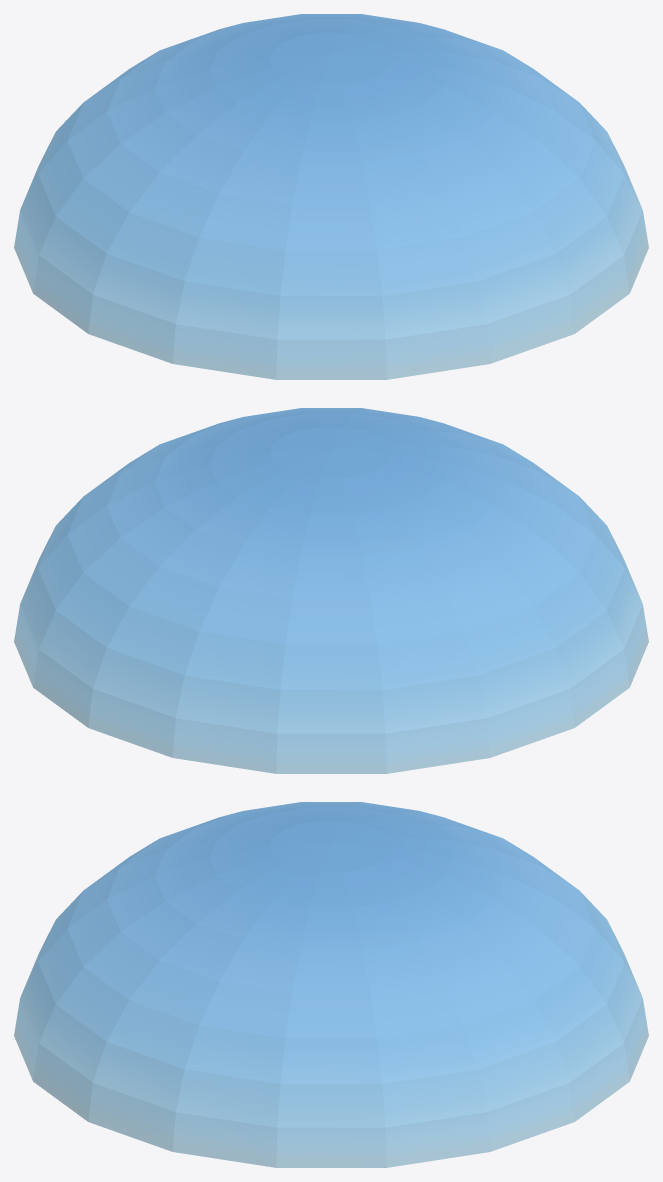
The model's file is hall_empty.glb.
The picture shows the model from 3 angles, top to bottom: view 1: azimuth 30°, elevation 25°; view 2: azimuth 150°, elevation 25°; view 3: azimuth 270°, elevation 25°; orthographic projection.
Visible parts, largest first — view 1: sky; view 2: sky; view 3: sky.
Boxes of the visible parts, left/top/right/bottom form: sky: left=14, top=14, right=648, bottom=379; sky: left=14, top=408, right=648, bottom=773; sky: left=14, top=802, right=648, bottom=1167.
Size of the model in its own units: 197 by 66.99 by 200.
Materials: 2 (2 with a texture image).
